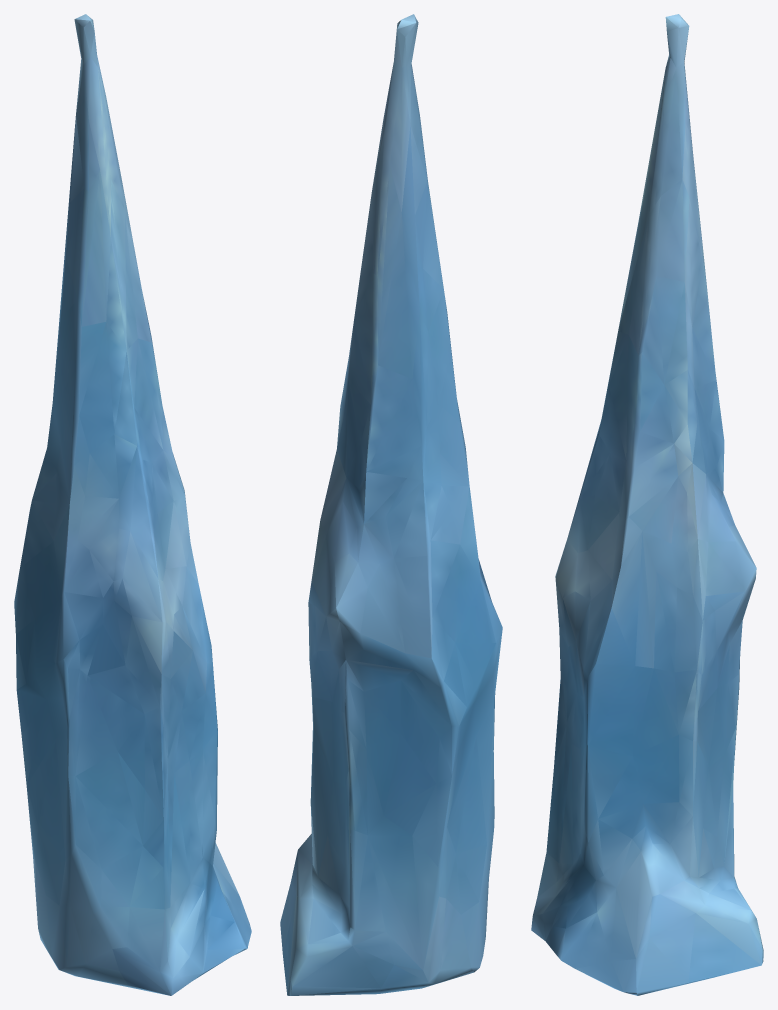
File: pincho_escarcha_0_700.glb
3 renders of one model, left to right at view 1: azimuth 30°, elevation 25°; view 2: azimuth 150°, elevation 25°; view 3: azimuth 270°, elevation 25°, orthographic. The views are drawn at different scales.
Parts seen in each view (by area): view 1: pincho_escarcha_0_malla; view 2: pincho_escarcha_0_malla; view 3: pincho_escarcha_0_malla.
Boxes of the visible parts, bbox=[...] form: pincho_escarcha_0_malla: bbox=[14, 14, 251, 995]; pincho_escarcha_0_malla: bbox=[280, 14, 502, 995]; pincho_escarcha_0_malla: bbox=[531, 14, 763, 995].
Bounding box in the file's own units: 0.0607 × 0.2667 × 0.0615.
1 material, 1 textured.
